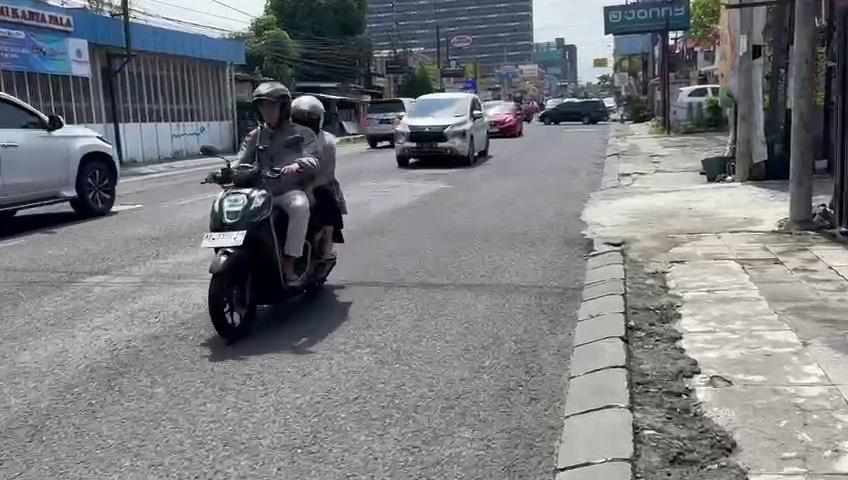helm: (249, 79, 295, 129)
riding: (187, 73, 363, 359)
